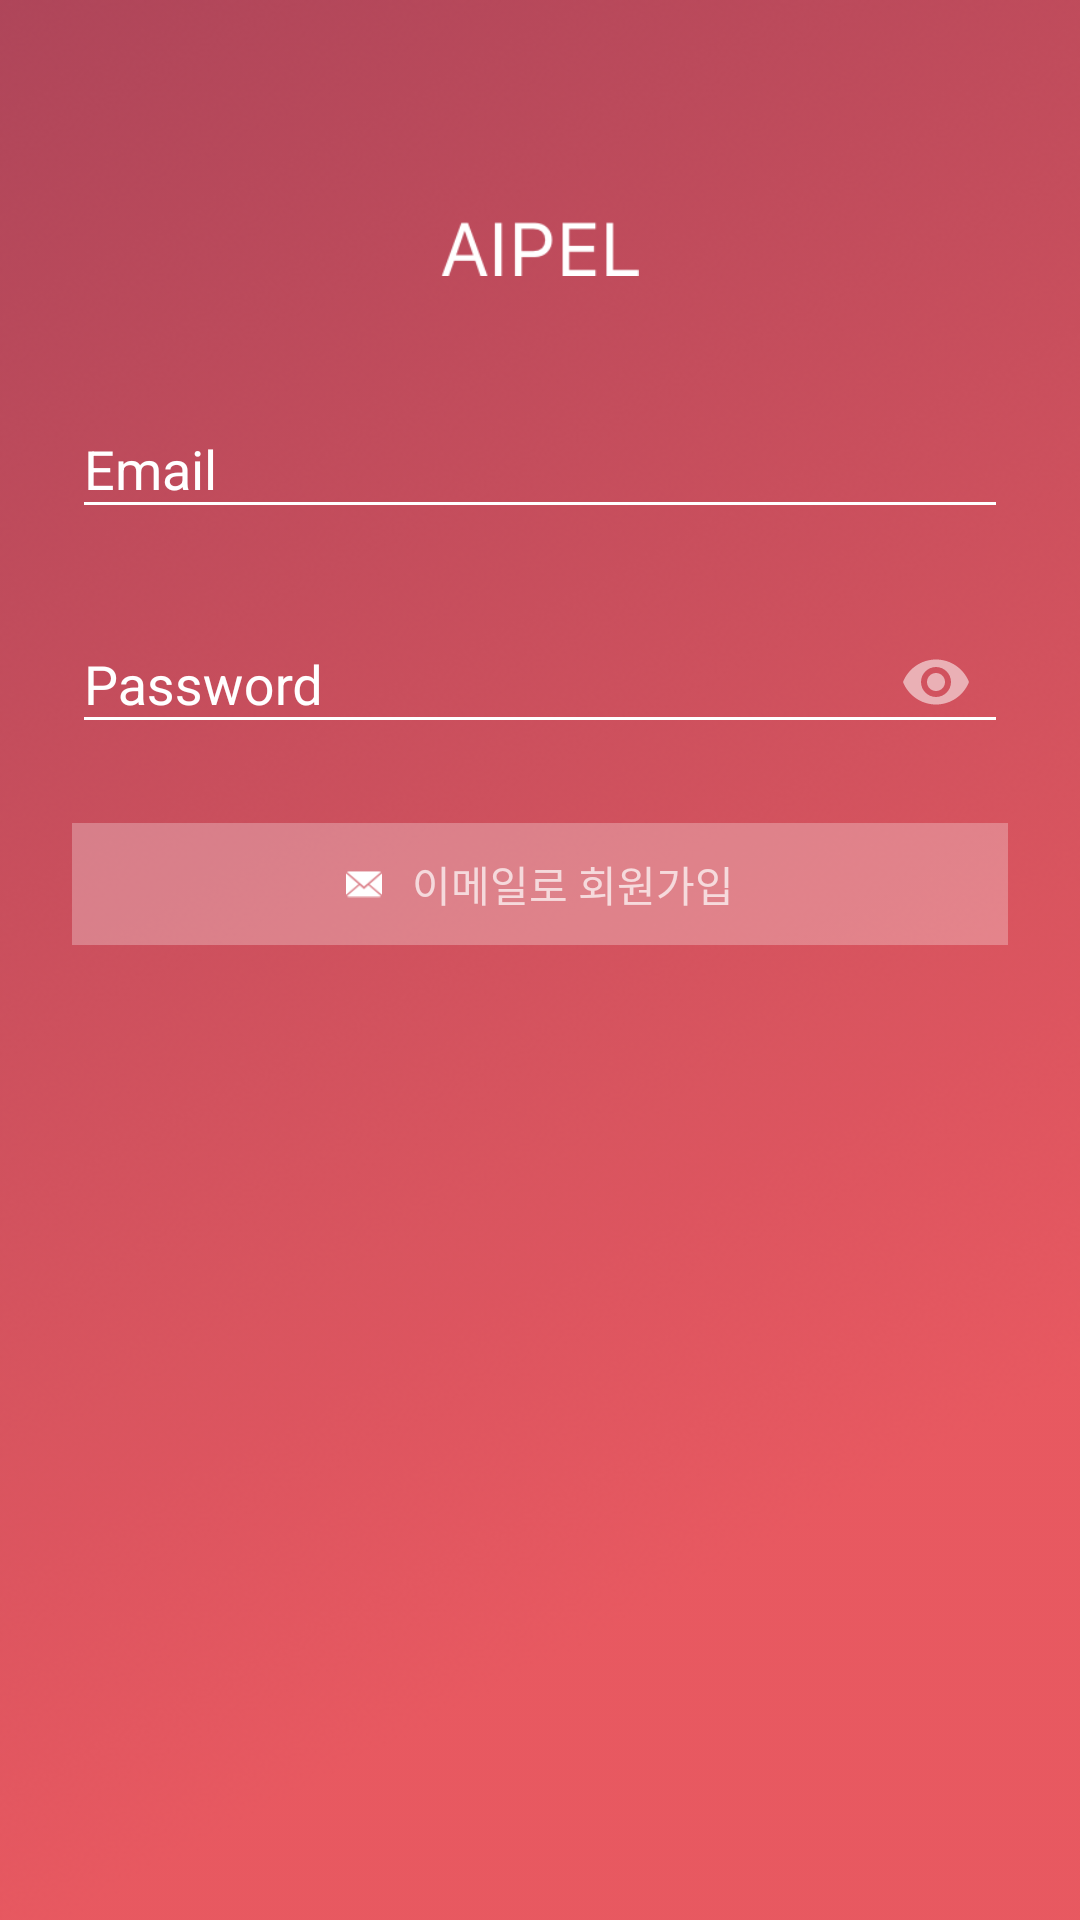

Icons on this 1080x1920 Android screen, each with its box as box(x1, y1, x2, y2):
close envelope: box(346, 871, 382, 898)
